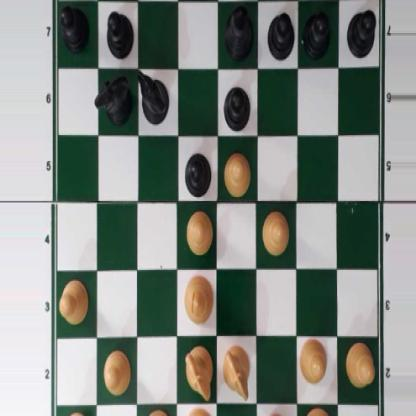black-bishop: (225, 1, 253, 61)
black-knight: (97, 72, 131, 124), (136, 69, 169, 121)
black-pawn: (346, 7, 377, 59), (59, 1, 89, 50), (183, 149, 211, 197), (303, 7, 330, 55), (222, 83, 250, 129), (106, 7, 131, 58), (266, 10, 292, 59)
white-bishop: (183, 270, 213, 321), (141, 408, 171, 416)
white-king: (301, 406, 338, 416)
white-knight: (221, 344, 250, 398), (184, 347, 213, 399)
white-pawn: (57, 278, 88, 324), (298, 336, 326, 386), (101, 347, 130, 395), (345, 340, 374, 386), (185, 207, 212, 253), (222, 149, 250, 193), (261, 209, 288, 253)
white-queen: (183, 402, 213, 416)
white-rook: (53, 409, 92, 416), (261, 413, 292, 416)
